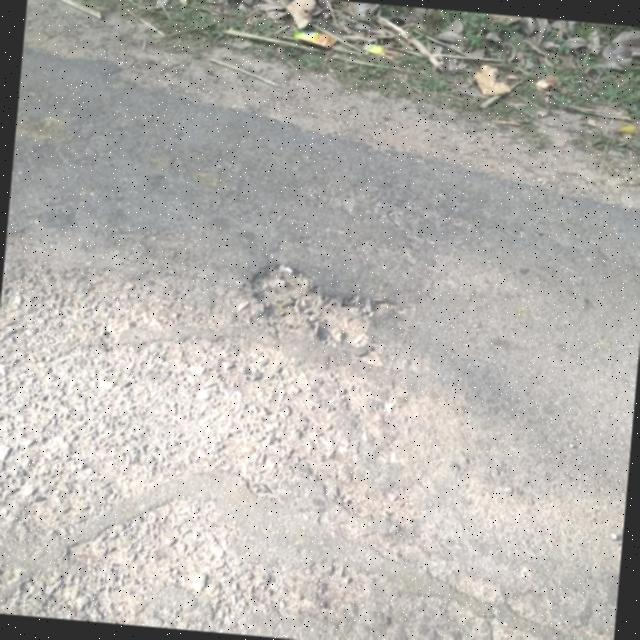Pothole: (248, 265, 377, 351)
